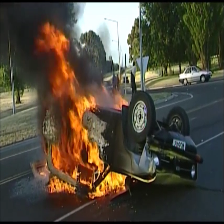fire_h: (37, 22, 109, 189), (89, 172, 127, 200), (102, 84, 129, 111), (47, 175, 76, 195)
fire_l: (40, 161, 51, 176)
